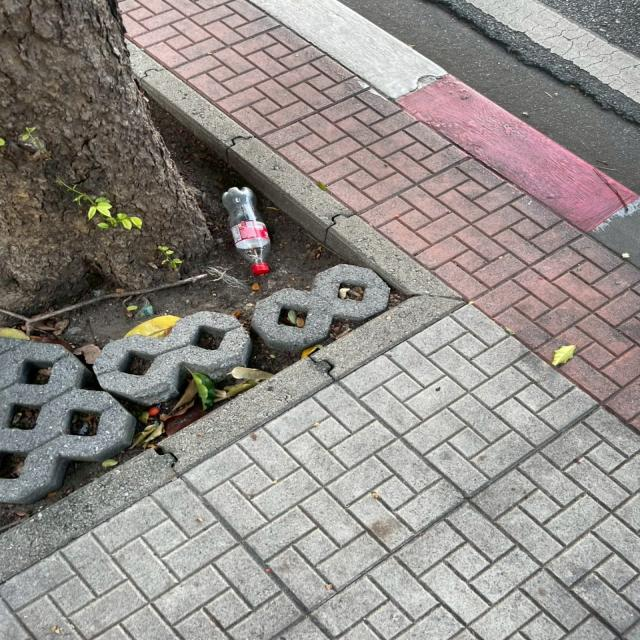plastic bottle: (217, 186, 286, 276)
